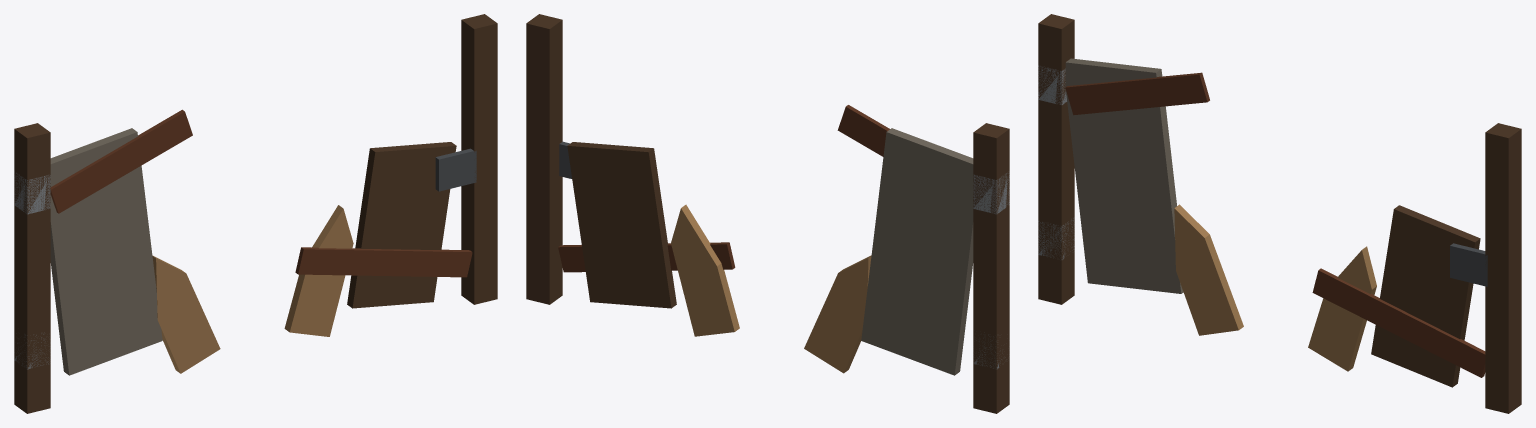
File: piece_gate_critical.fbx
3 renders of one model, left to right at view 1: azimuth 30°, elevation 25°; view 2: azimuth 150°, elevation 25°; view 3: azimuth 330°, elevation 25°, orthographic.
Parts seen in each view (by area): view 1: piece_gate_critical; view 2: piece_gate_critical; view 3: piece_gate_critical.
Boxes of the visible parts, <box> form: piece_gate_critical: <box>14,14,497,413</box>; piece_gate_critical: <box>526,14,1009,413</box>; piece_gate_critical: <box>1038,14,1521,413</box>.
Size of the model in its own units: 2 by 1.12 by 0.095.
